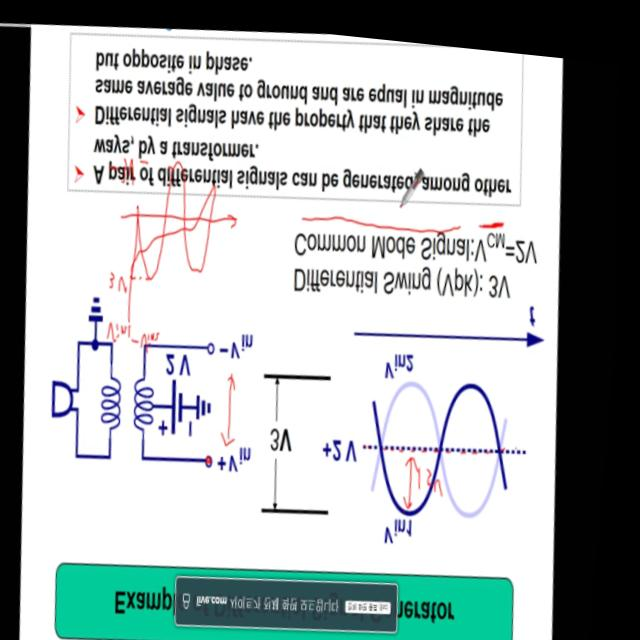panseo: (75, 141, 264, 366)
